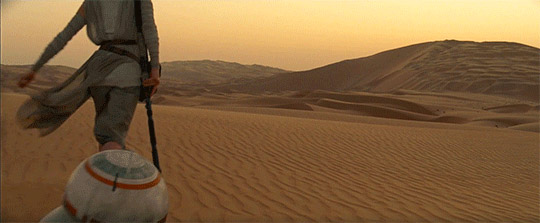bb8: (38, 149, 169, 223)
